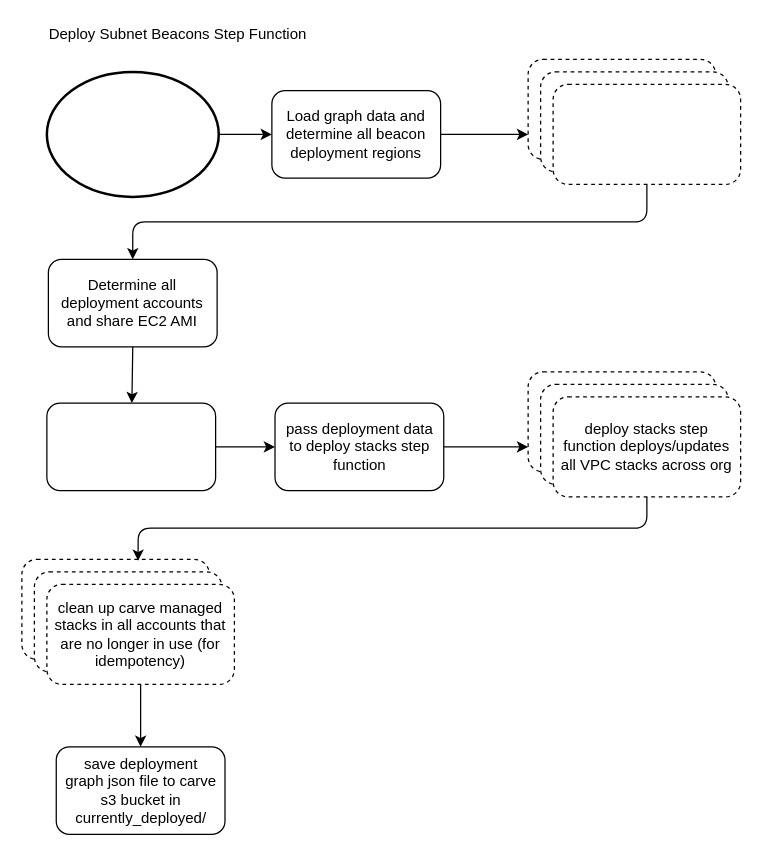
Some shapes in this 763 by 856 pixel diagram are drawn without their labels. The centre of each missing label's shape, as x and y in pixels:
Copy carve EC2 AMI to deployment regions within the carve account: point (646, 133)
Create CFN stack templates and deployment data for every VPC: point (131, 446)
upload network graph json file to carve s3 bucket deploy_input/: point (132, 134)
